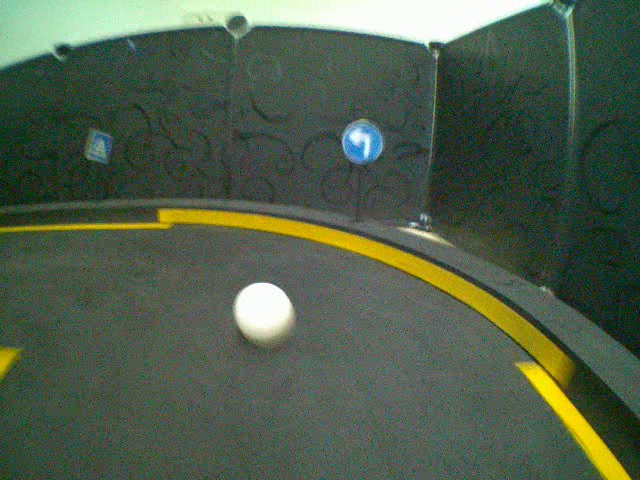ball: (232, 279, 297, 349)
